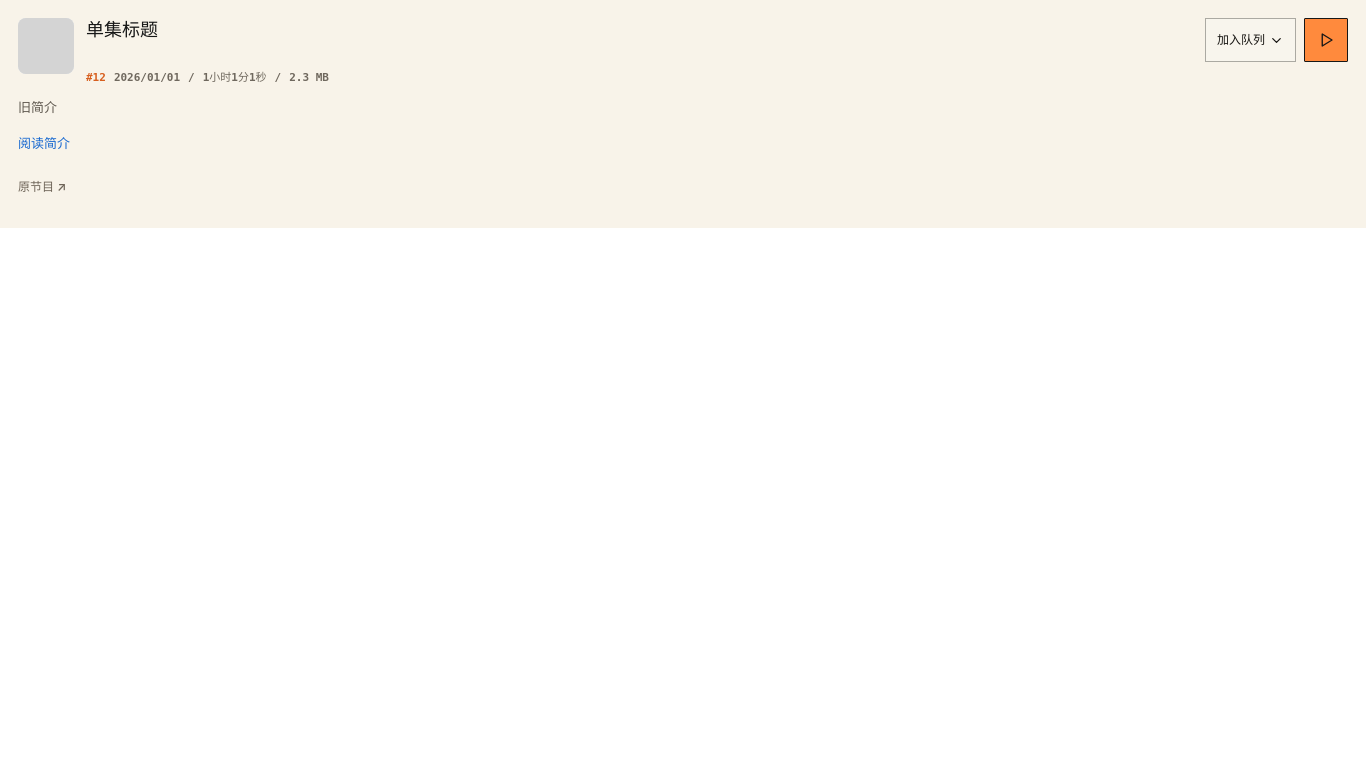
it: EpisodeCard › loads full show notes only after an explicit expand action
Expected: the text "旧简介" is shown, [18,99,57,115]
Click the button "阅读简介". click: click(44, 144)
box: [18,122,70,166]
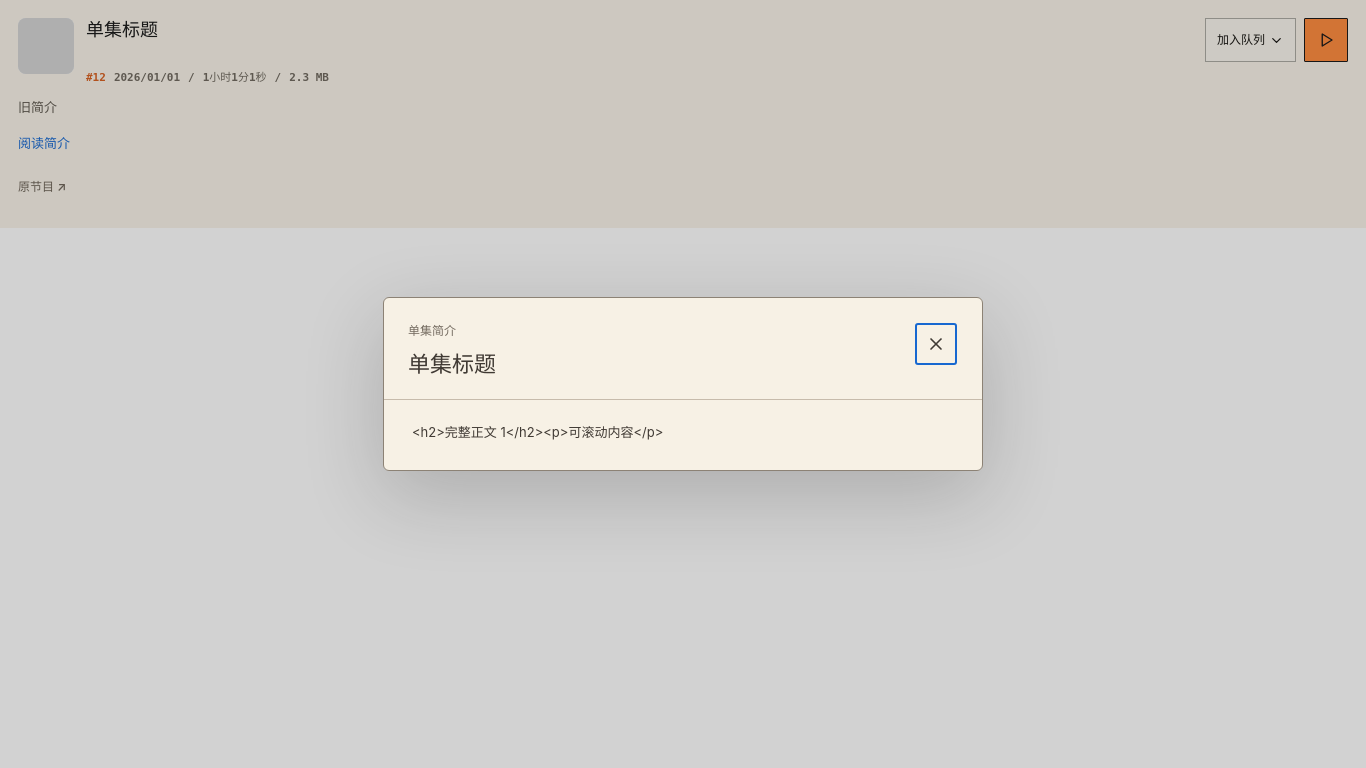
Result: the text with test id "rich-text" shows "完整正文 1" at [412,424,663,440]
